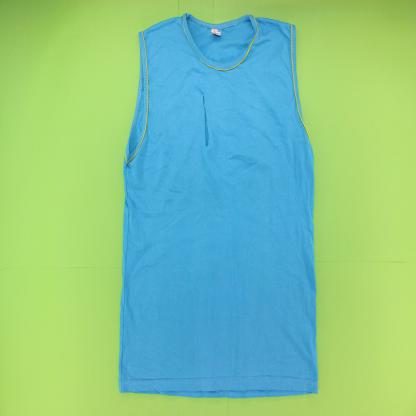hole: (202, 92, 210, 148)
